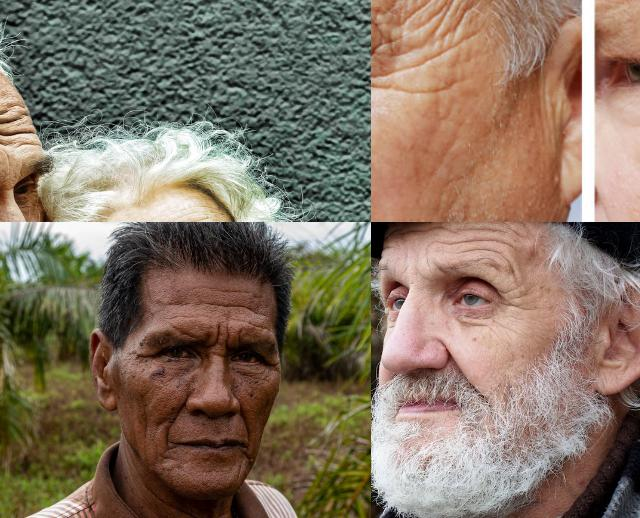chin: (234, 462, 243, 484), (156, 451, 172, 461)
crows_feet: (371, 37, 391, 99), (498, 286, 520, 320), (132, 345, 152, 366), (265, 356, 281, 372)
forehead: (0, 99, 30, 143), (466, 222, 504, 256), (398, 224, 460, 242), (203, 294, 251, 312), (205, 285, 251, 299), (162, 308, 192, 324), (243, 317, 275, 332), (182, 214, 216, 222)
frown_line: (211, 322, 229, 348), (420, 249, 436, 271)
gummy_smile: (445, 348, 471, 384), (166, 398, 187, 432), (239, 410, 255, 434)
